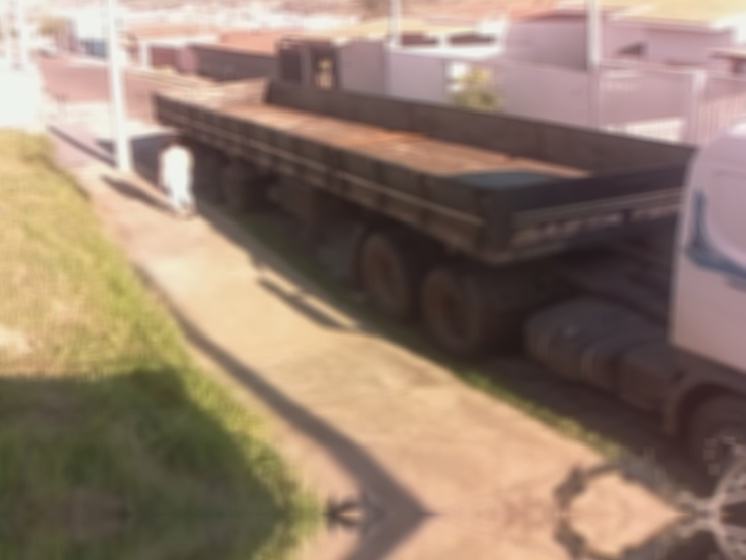person: (158, 131, 209, 221)
